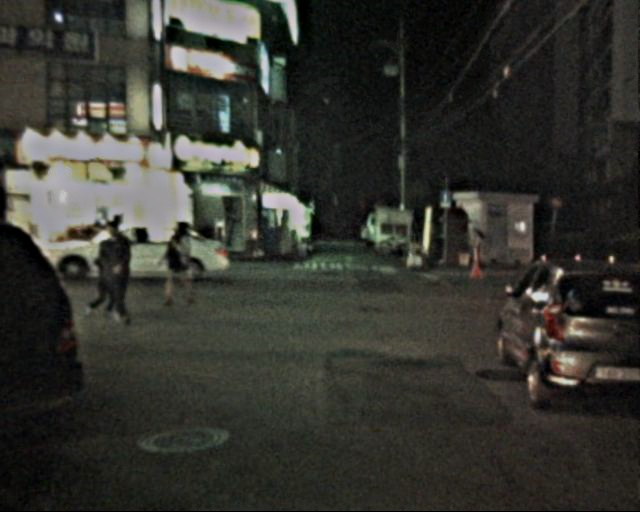person: (93, 218, 136, 324), (163, 222, 197, 305), (464, 220, 486, 278)
